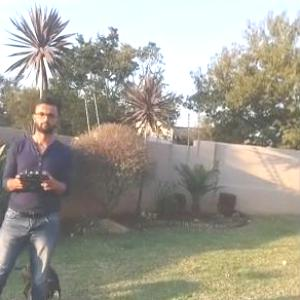follow: (0, 89, 74, 299)
